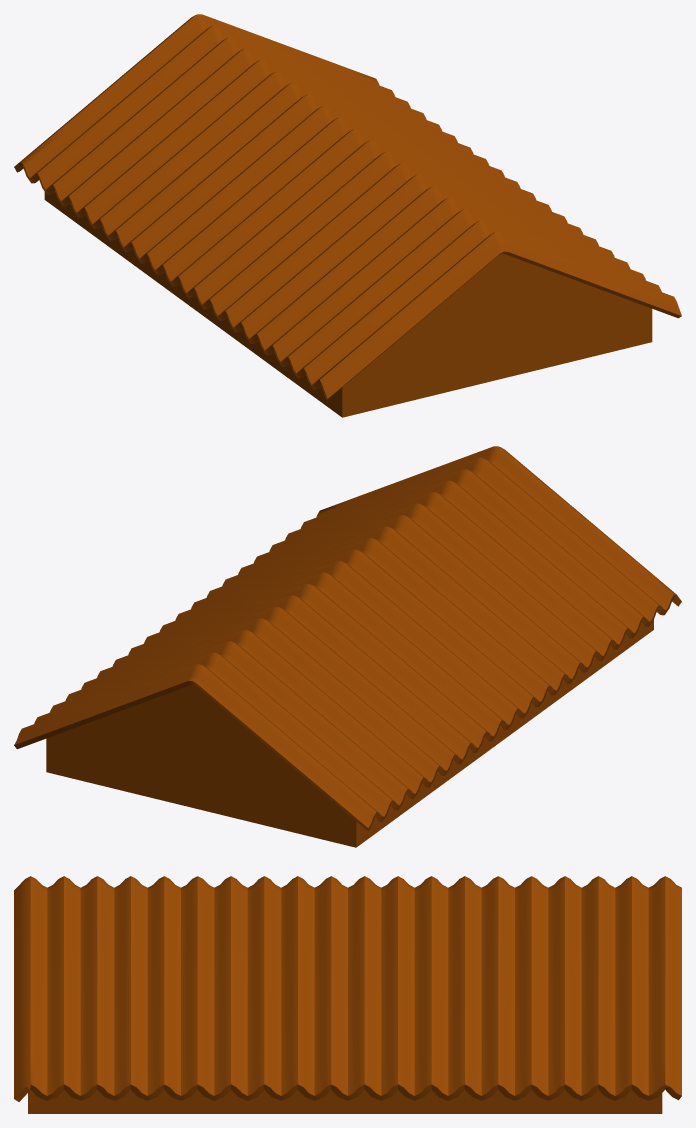
Rendered from SM_Bat1_Roof.fbx.
3 renders of one model, top to bottom at view 1: azimuth 30°, elevation 25°; view 2: azimuth 150°, elevation 25°; view 3: azimuth 270°, elevation 25°, orthographic. The views are drawn at different scales.
Visible parts, largest first — view 1: Bat1_Roof; view 2: Bat1_Roof; view 3: Bat1_Roof.
Boxes of the visible parts, box(x1,y1,x2,y2) form: Bat1_Roof: box(14, 14, 681, 417); Bat1_Roof: box(14, 446, 681, 847); Bat1_Roof: box(14, 876, 681, 1113).
Bounding box in the file's own units: 344 × 136 × 527.
